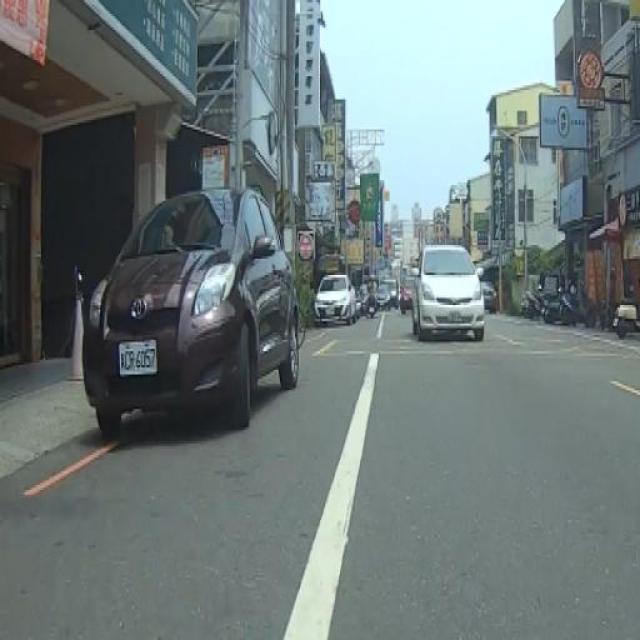illegalparking: (84, 189, 300, 438), (315, 276, 355, 325), (558, 282, 592, 325), (612, 299, 639, 338), (542, 285, 562, 321), (358, 286, 369, 315)
